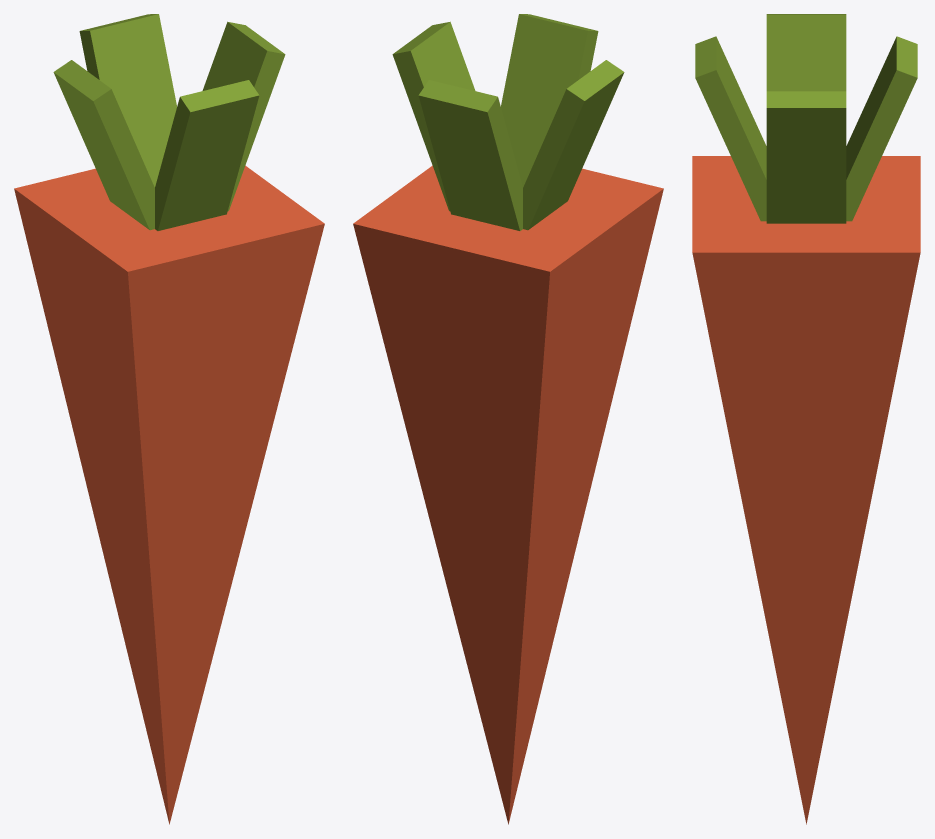
The model's file is Carrot.fbx.
3 renders of one model, left to right at view 1: azimuth 30°, elevation 25°; view 2: azimuth 150°, elevation 25°; view 3: azimuth 270°, elevation 25°, orthographic.
Parts seen in each view (by area): view 1: Carrot, Leaf.003, Leaf.002, Leaf.001, Leaf; view 2: Carrot, Leaf.002, Leaf.003, Leaf.001, Leaf; view 3: Carrot, Leaf, Leaf.001, Leaf.002, Leaf.003.
Boxes of the visible parts, x1,y1,x2,y2 form: Carrot: [14, 165, 324, 824]; Leaf.003: [155, 80, 259, 230]; Leaf.002: [79, 14, 176, 187]; Leaf.001: [53, 60, 154, 230]; Leaf: [202, 21, 285, 211]; Carrot: [353, 165, 663, 824]; Leaf.002: [418, 80, 522, 230]; Leaf.003: [501, 14, 598, 187]; Leaf.001: [523, 60, 624, 230]; Leaf: [392, 21, 475, 211]; Carrot: [692, 156, 920, 824]; Leaf: [766, 91, 846, 223]; Leaf.001: [766, 14, 846, 91]; Leaf.002: [846, 36, 917, 221]; Leaf.003: [695, 36, 766, 221].
Bounding box in the file's own units: 40 × 149 × 40.
